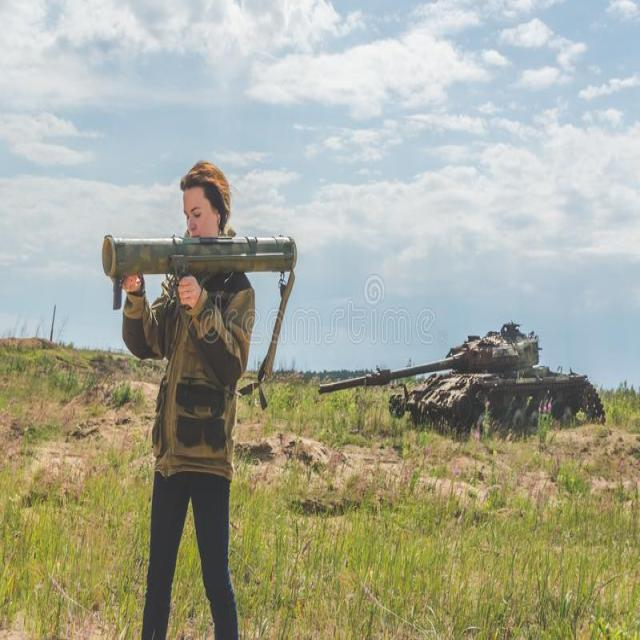bazooka: (99, 228, 304, 311)
